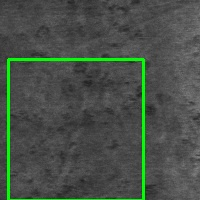rolled-in_scale: (8, 59, 143, 200)
